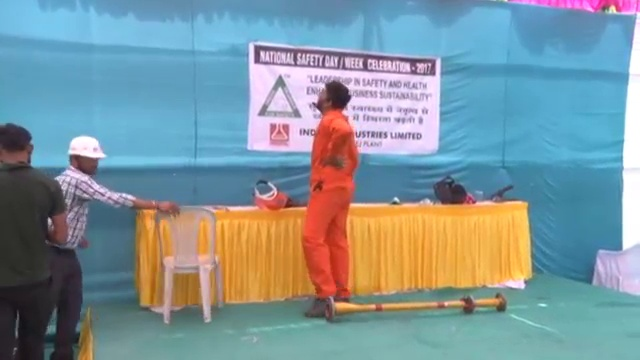helmet: (66, 134, 107, 162)
helmet_off: (1, 121, 35, 171), (313, 81, 351, 113)
helmet_on: (64, 134, 106, 176)
person: (48, 135, 181, 358), (1, 119, 66, 357), (305, 80, 359, 317)
